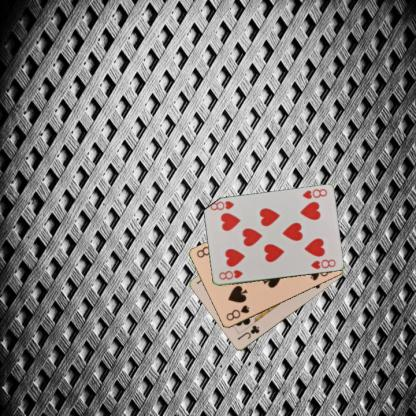8h: (299, 186, 328, 201), (216, 268, 244, 282)
8s: (223, 303, 250, 322)
Jc: (235, 323, 261, 341)
